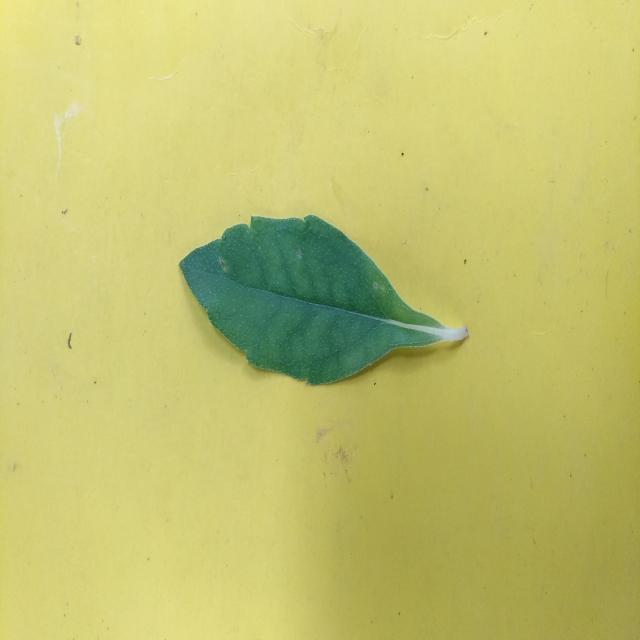bringaraja: (180, 216, 469, 384)
